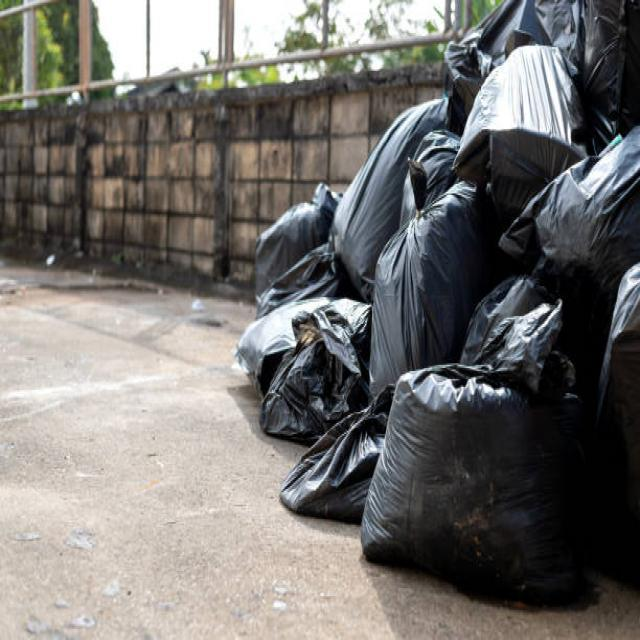garbage: (233, 0, 640, 623)
